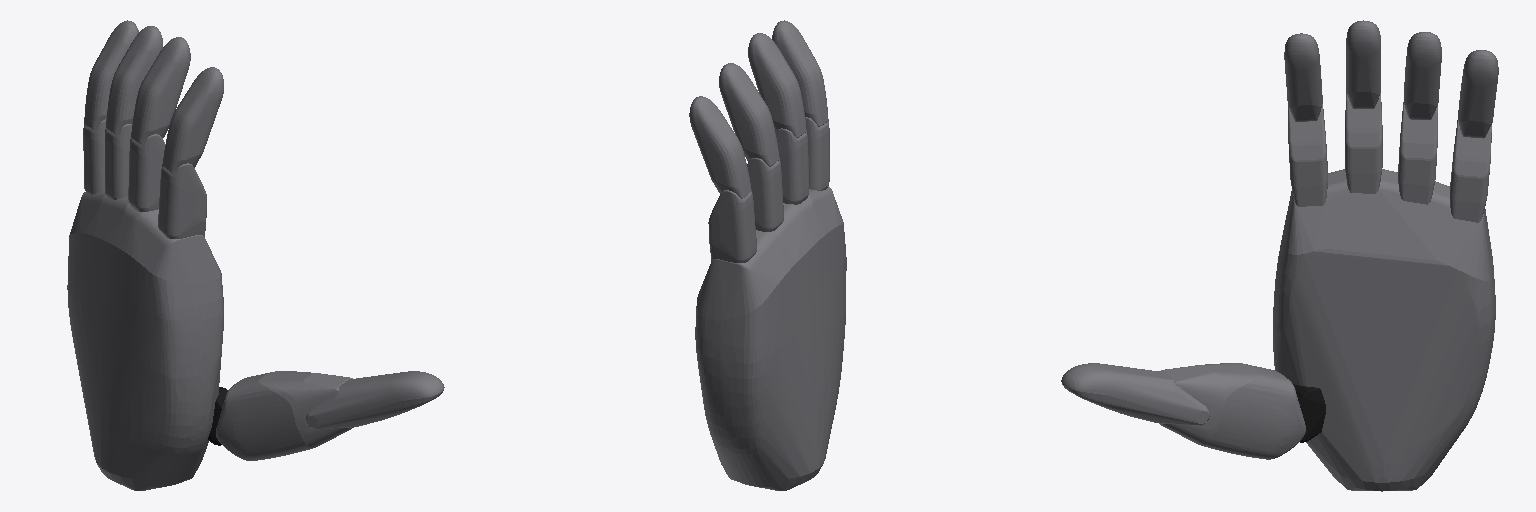
robot.urdf — linkerbot_o6_left:
<?xml version='1.0' encoding='utf-8'?>
<robot name="linkerbot_o6_left">
  <material name="lh_o6_silver">
    <color rgba="0.5 0.5 0.52 1.0" />
  </material>
  <material name="lh_o6_black_accent">
    <color rgba="0.15 0.15 0.15 1.0" />
  </material>
  <link name="lh_hand_base_link">
    <inertial>
      <origin xyz="-0.00157788568070457 -0.00034876725935859 0.0538452219801211" rpy="0 0 0" />
      <mass value="0.0672935238166485" />
      <inertia ixx="5.22525212160954E-05" ixy="3.06955729584715E-07" ixz="-3.90341166950521E-07" iyy="3.33522349207724E-05" iyz="-7.76680063574627E-07" izz="2.28469461105385E-05" />
    </inertial>
    <visual>
      <origin xyz="0 0 0" rpy="0 0 0" />
      <geometry>
        <mesh filename="../meshes/left_cvx/hand_base_link.stl" />
      </geometry>
      <material name="lh_o6_silver" />
    </visual>
    <collision>
      <origin xyz="0 0 0" rpy="0 0 0" />
      <geometry>
        <mesh filename="../meshes/left_cvx/hand_base_link.stl" />
      </geometry>
    </collision>
  </link>
  <link name="lh_thumb_metacarpals_base2">
    <inertial>
      <origin xyz="0.00162800681276937 -0.0027668017246415 -0.00184234438641236" rpy="0 0 0" />
      <mass value="0.00138588296544333" />
      <inertia ixx="5.26292160685909E-08" ixy="-3.92888681640568E-09" ixz="-2.43767371295222E-09" iyy="4.82620491570326E-08" iyz="3.71869784206147E-09" izz="2.88550286112821E-08" />
    </inertial>
    <visual>
      <origin xyz="0 0 0" rpy="0 0 0" />
      <geometry>
        <mesh filename="../meshes/left_cvx/thumb_metacarpals_base2.stl" />
      </geometry>
      <material name="lh_o6_black_accent" />
    </visual>
    <collision>
      <origin xyz="0 0 0" rpy="0 0 0" />
      <geometry>
        <mesh filename="../meshes/left_cvx/thumb_metacarpals_base2.stl" />
      </geometry>
    </collision>
  </link>
  <link name="lh_thumb_metacarpals">
    <inertial>
      <origin xyz="4.24816204999817E-05 1.74183907812875E-05 0.0228341640631254" rpy="0 0 0" />
      <mass value="0.0123381586619931" />
      <inertia ixx="1.10292537368909E-06" ixy="-5.99642232777877E-10" ixz="-1.14233573940545E-07" iyy="1.76757772551884E-06" iyz="-4.03963570823777E-10" izz="9.36347792411098E-07" />
    </inertial>
    <visual>
      <origin xyz="0 0 0" rpy="0 0 0" />
      <geometry>
        <mesh filename="../meshes/left_cvx/thumb_metacarpals.stl" />
      </geometry>
      <material name="lh_o6_silver" />
    </visual>
    <collision>
      <origin xyz="0 0 0" rpy="0 0 0" />
      <geometry>
        <mesh filename="../meshes/left_cvx/thumb_metacarpals.stl" />
      </geometry>
    </collision>
  </link>
  <link name="lh_thumb_distal">
    <inertial>
      <origin xyz="-0.00413725702921841 -5.90704520436747E-08 0.023011401589736" rpy="0 0 0" />
      <mass value="0.00763332957284057" />
      <inertia ixx="1.3057487813702E-06" ixy="-1.19781508112714E-11" ixz="-7.19551697268541E-08" iyy="1.2248908905341E-06" iyz="4.55347974652679E-12" izz="2.77271910592615E-07" />
    </inertial>
    <visual>
      <origin xyz="0 0 0" rpy="0 0 0" />
      <geometry>
        <mesh filename="../meshes/left_cvx/thumb_distal.stl" />
      </geometry>
      <material name="lh_o6_silver" />
    </visual>
    <collision>
      <origin xyz="0 0 0" rpy="0 0 0" />
      <geometry>
        <mesh filename="../meshes/left_cvx/thumb_distal.stl" />
      </geometry>
    </collision>
  </link>
  <link name="lh_index_proximal">
    <inertial>
      <origin xyz="-0.00208656556336452 2.53838713251686E-06 0.0172734941980264" rpy="0 0 0" />
      <mass value="0.00253174651934627" />
      <inertia ixx="2.65988714157799E-07" ixy="-1.67174578825824E-11" ixz="-4.31047725546034E-08" iyy="2.72914069166233E-07" iyz="1.8756709532167E-10" izz="8.56017305636748E-08" />
    </inertial>
    <visual>
      <origin xyz="0 0 0" rpy="0 0 0" />
      <geometry>
        <mesh filename="../meshes/left_cvx/index_proximal.stl" />
      </geometry>
      <material name="lh_o6_silver" />
    </visual>
    <collision>
      <origin xyz="0 0 0" rpy="0 0 0" />
      <geometry>
        <mesh filename="../meshes/left_cvx/index_proximal.stl" />
      </geometry>
    </collision>
  </link>
  <link name="lh_index_distal">
    <inertial>
      <origin xyz="0.00658986616416549 5.13855642059191E-06 0.0194393600039178" rpy="0 0 0" />
      <mass value="0.00376951085886838" />
      <inertia ixx="3.22347106085043E-07" ixy="1.3801788663582E-11" ixz="1.14352857317951E-07" iyy="3.65328133721509E-07" iyz="-2.11505011705634E-10" izz="1.24287996386442E-07" />
    </inertial>
    <visual>
      <origin xyz="0 0 0" rpy="0 0 0" />
      <geometry>
        <mesh filename="../meshes/left_cvx/index_distal.stl" />
      </geometry>
      <material name="lh_o6_silver" />
    </visual>
    <collision>
      <origin xyz="0 0 0" rpy="0 0 0" />
      <geometry>
        <mesh filename="../meshes/left_cvx/index_distal.stl" />
      </geometry>
    </collision>
  </link>
  <link name="lh_middle_proximal">
    <inertial>
      <origin xyz="-0.00208660654138235 2.56918180119303E-06 0.0172735011723351" rpy="0 0 0" />
      <mass value="0.00253177375206983" />
      <inertia ixx="2.65989021304483E-07" ixy="-1.69816046635662E-11" ixz="-4.31046683215273E-08" iyy="2.72914402745606E-07" iyz="1.87484652324395E-10" izz="8.5602213431865E-08" />
    </inertial>
    <visual>
      <origin xyz="0 0 0" rpy="0 0 0" />
      <geometry>
        <mesh filename="../meshes/left_cvx/middle_proximal.stl" />
      </geometry>
      <material name="lh_o6_silver" />
    </visual>
    <collision>
      <origin xyz="0 0 0" rpy="0 0 0" />
      <geometry>
        <mesh filename="../meshes/left_cvx/middle_proximal.stl" />
      </geometry>
    </collision>
  </link>
  <link name="lh_middle_distal">
    <inertial>
      <origin xyz="0.00658986516319194 5.10862924271716E-06 0.0194393315699782" rpy="0 0 0" />
      <mass value="0.00376952789210256" />
      <inertia ixx="3.22348591068053E-07" ixy="1.37122394856588E-11" ixz="1.1435291391668E-07" iyy="3.65329535087755E-07" iyz="-2.10453810291991E-10" izz="1.24288425862546E-07" />
    </inertial>
    <visual>
      <origin xyz="0 0 0" rpy="0 0 0" />
      <geometry>
        <mesh filename="../meshes/left_cvx/middle_distal.stl" />
      </geometry>
      <material name="lh_o6_silver" />
    </visual>
    <collision>
      <origin xyz="0 0 0" rpy="0 0 0" />
      <geometry>
        <mesh filename="../meshes/left_cvx/middle_distal.stl" />
      </geometry>
    </collision>
  </link>
  <link name="lh_ring_proximal">
    <inertial>
      <origin xyz="-0.00208667931345812 2.63000419462034E-06 0.0172734926448377" rpy="0 0 0" />
      <mass value="0.00253182223645066" />
      <inertia ixx="2.65989756076584E-07" ixy="-1.74912952703656E-11" ixz="-4.31043325594253E-08" iyy="2.7291510093393E-07" iyz="1.87158326740895E-10" izz="8.56031522765909E-08" />
    </inertial>
    <visual>
      <origin xyz="0 0 0" rpy="0 0 0" />
      <geometry>
        <mesh filename="../meshes/left_cvx/ring_proximal.stl" />
      </geometry>
      <material name="lh_o6_silver" />
    </visual>
    <collision>
      <origin xyz="0 0 0" rpy="0 0 0" />
      <geometry>
        <mesh filename="../meshes/left_cvx/ring_proximal.stl" />
      </geometry>
    </collision>
  </link>
  <link name="lh_ring_distal">
    <inertial>
      <origin xyz="0.00658986648895491 5.05883528165163E-06 0.019439397215532" rpy="0 0 0" />
      <mass value="0.00376949588316609" />
      <inertia ixx="3.2234524157181E-07" ixy="1.35766976056011E-11" ixz="1.14353011012842E-07" iyy="3.65326570102147E-07" iyz="-2.08672149138738E-10" izz="1.24287770218135E-07" />
    </inertial>
    <visual>
      <origin xyz="0 0 0" rpy="0 0 0" />
      <geometry>
        <mesh filename="../meshes/left_cvx/ring_distal.stl" />
      </geometry>
      <material name="lh_o6_silver" />
    </visual>
    <collision>
      <origin xyz="0 0 0" rpy="0 0 0" />
      <geometry>
        <mesh filename="../meshes/left_cvx/ring_distal.stl" />
      </geometry>
    </collision>
  </link>
  <link name="lh_pinky_proximal">
    <inertial>
      <origin xyz="-0.00208673599799501 2.68062251165824E-06 0.0172734848131236" rpy="0 0 0" />
      <mass value="0.00253185993162408" />
      <inertia ixx="2.6599033687183E-07" ixy="-1.79030790016555E-11" ixz="-4.31040829565781E-08" iyy="2.72915617381577E-07" iyz="1.86906787420486E-10" izz="8.56039175034871E-08" />
    </inertial>
    <visual>
      <origin xyz="0 0 0" rpy="0 0 0" />
      <geometry>
        <mesh filename="../meshes/left_cvx/pinky_proximal.stl" />
      </geometry>
      <material name="lh_o6_silver" />
    </visual>
    <collision>
      <origin xyz="0 0 0" rpy="0 0 0" />
      <geometry>
        <mesh filename="../meshes/left_cvx/pinky_proximal.stl" />
      </geometry>
    </collision>
  </link>
  <link name="lh_pinky_distal">
    <inertial>
      <origin xyz="0.00658987588903027 5.03087534178825E-06 0.0194394491065091" rpy="0 0 0" />
      <mass value="0.00376948071276134" />
      <inertia ixx="3.22343583730488E-07" ixy="1.35768173270357E-11" ixz="1.14353289593012E-07" iyy="3.65325180884183E-07" iyz="-2.0744198062439E-10" izz="1.24287567374229E-07" />
    </inertial>
    <visual>
      <origin xyz="0 0 0" rpy="0 0 0" />
      <geometry>
        <mesh filename="../meshes/left_cvx/pinky_distal.stl" />
      </geometry>
      <material name="lh_o6_silver" />
    </visual>
    <collision>
      <origin xyz="0 0 0" rpy="0 0 0" />
      <geometry>
        <mesh filename="../meshes/left_cvx/pinky_distal.stl" />
      </geometry>
    </collision>
  </link>
  <joint name="lh_thumb_cmc_yaw" type="revolute">
    <origin xyz="0.011508 -0.022975 0.032794" rpy="0 0 0" />
    <parent link="lh_hand_base_link" />
    <child link="lh_thumb_metacarpals_base2" />
    <axis xyz="0 0 1" />
    <limit lower="0" upper="1.3" effort="100" velocity="1" />
  </joint>
  <joint name="lh_thumb_cmc_pitch" type="revolute">
    <origin xyz="0.0061649 -0.010678 -0.004891" rpy="0 -1.1529 2.0944" />
    <parent link="lh_thumb_metacarpals_base2" />
    <child link="lh_thumb_metacarpals" />
    <axis xyz="0 1 0" />
    <limit lower="0" upper="0.58" effort="100" velocity="1" />
  </joint>
  <joint name="lh_thumb_ip" type="revolute">
    <origin xyz="0.0037776 0 0.045368" rpy="0 0 0" />
    <parent link="lh_thumb_metacarpals" />
    <child link="lh_thumb_distal" />
    <axis xyz="0 1 0" />
    <limit lower="0" upper="1.08" effort="100" velocity="1" />
    <mimic joint="lh_thumb_cmc_pitch" multiplier="2.29" offset="0" />
  </joint>
  <joint name="lh_index_mcp_pitch" type="revolute">
    <origin xyz="0.0024758 -0.02419 0.098779" rpy="0.05236 0 0" />
    <parent link="lh_hand_base_link" />
    <child link="lh_index_proximal" />
    <axis xyz="0 1 0" />
    <limit lower="0" upper="1.60" effort="100" velocity="1" />
  </joint>
  <joint name="lh_index_dip" type="revolute">
    <origin xyz="-0.0052516 0 0.036625" rpy="0 0 0" />
    <parent link="lh_index_proximal" />
    <child link="lh_index_distal" />
    <axis xyz="0 1 0" />
    <limit lower="0" upper="1.43" effort="100" velocity="1" />
    <mimic joint="lh_index_mcp_pitch" multiplier="0.89" offset="0" />
  </joint>
  <joint name="lh_middle_mcp_pitch" type="revolute">
    <origin xyz="0.00052576 -0.00634 0.1027" rpy="0 0 0" />
    <parent link="lh_hand_base_link" />
    <child link="lh_middle_proximal" />
    <axis xyz="0 1 0" />
    <limit lower="0" upper="1.60" effort="100" velocity="1" />
  </joint>
  <joint name="lh_middle_dip" type="revolute">
    <origin xyz="-0.0052516 0 0.036625" rpy="0 0 0" />
    <parent link="lh_middle_proximal" />
    <child link="lh_middle_distal" />
    <axis xyz="0 1 0" />
    <limit lower="0" upper="1.43" effort="100" velocity="1" />
    <mimic joint="lh_middle_mcp_pitch" multiplier="0.89" offset="0" />
  </joint>
  <joint name="lh_ring_mcp_pitch" type="revolute">
    <origin xyz="0.0010258 0.011135 0.098767" rpy="-0.05236 0 0" />
    <parent link="lh_hand_base_link" />
    <child link="lh_ring_proximal" />
    <axis xyz="0 1 0" />
    <limit lower="0" upper="1.60" effort="100" velocity="1" />
  </joint>
  <joint name="lh_ring_dip" type="revolute">
    <origin xyz="-0.0052516 0 0.036625" rpy="0 0 0" />
    <parent link="lh_ring_proximal" />
    <child link="lh_ring_distal" />
    <axis xyz="0 1 0" />
    <limit lower="0" upper="1.43" effort="100" velocity="1" />
    <mimic joint="lh_ring_mcp_pitch" multiplier="0.89" offset="0" />
  </joint>
  <joint name="lh_pinky_mcp_pitch" type="revolute">
    <origin xyz="0.0024758 0.028372 0.092741" rpy="-0.087266 0 0" />
    <parent link="lh_hand_base_link" />
    <child link="lh_pinky_proximal" />
    <axis xyz="0 1 0" />
    <limit lower="0" upper="1.60" effort="100" velocity="1" />
  </joint>
  <joint name="lh_pinky_dip" type="revolute">
    <origin xyz="-0.0052516 0 0.036625" rpy="0 0 0" />
    <parent link="lh_pinky_proximal" />
    <child link="lh_pinky_distal" />
    <axis xyz="0 1 0" />
    <limit lower="0" upper="1.43" effort="100" velocity="1" />
    <mimic joint="lh_pinky_mcp_pitch" multiplier="0.89" offset="0" />
  </joint>
</robot>

--- Facts derived from the render (not from the file) ---
3 views of the same robot in one strip: view 1: azimuth 30°, elevation 25°; view 2: azimuth 150°, elevation 25°; view 3: azimuth 270°, elevation 25° (orthographic).
Robot: linkerbot_o6_left — 12 links, 11 joints (11 revolute); root link lh_hand_base_link; default pose: every joint at zero.
Visible links, largest first — view 1: lh_hand_base_link, lh_thumb_metacarpals, lh_thumb_distal, lh_index_distal, lh_middle_distal, lh_index_proximal, lh_ring_distal, lh_pinky_distal, lh_middle_proximal, lh_ring_proximal, lh_pinky_proximal; view 2: lh_hand_base_link, lh_pinky_distal, lh_ring_distal, lh_middle_distal, lh_pinky_proximal, lh_index_distal, lh_ring_proximal, lh_middle_proximal, lh_index_proximal; view 3: lh_hand_base_link, lh_thumb_metacarpals, lh_thumb_distal, lh_index_proximal, lh_middle_proximal, lh_pinky_proximal, lh_ring_proximal, lh_pinky_distal, lh_index_distal, lh_ring_distal, lh_middle_distal, lh_thumb_metacarpals_base2.
Link boxes in pixels (x1,y1,x2,y2): lh_hand_base_link: (67,191,223,490); lh_thumb_metacarpals: (216,371,353,460); lh_thumb_distal: (306,371,444,428); lh_index_distal: (163,67,223,172); lh_middle_distal: (131,37,190,143); lh_index_proximal: (158,163,206,238); lh_ring_distal: (106,26,162,133); lh_pinky_distal: (84,20,138,128); lh_middle_proximal: (128,134,165,211); lh_ring_proximal: (105,124,131,199); lh_pinky_proximal: (83,119,105,194); lh_hand_base_link: (695,186,846,490); lh_pinky_distal: (689,96,751,198); lh_ring_distal: (719,63,779,166); lh_middle_distal: (748,33,806,137); lh_pinky_proximal: (708,189,756,262); lh_index_distal: (772,20,828,126); lh_ring_proximal: (747,157,783,231); lh_middle_proximal: (776,128,808,204); lh_index_proximal: (805,117,829,190); lh_hand_base_link: (1273,169,1495,491); lh_thumb_metacarpals: (1159,363,1305,459); lh_thumb_distal: (1061,363,1209,425); lh_index_proximal: (1288,104,1327,206); lh_middle_proximal: (1345,92,1382,193); lh_pinky_proximal: (1450,120,1491,222); lh_ring_proximal: (1398,102,1437,204); lh_pinky_distal: (1458,50,1498,138); lh_index_distal: (1284,33,1322,121); lh_ring_distal: (1404,32,1441,119); lh_middle_distal: (1346,20,1380,108); lh_thumb_metacarpals_base2: (1293,384,1325,442).
Size in the robot's own frame: 0.0852 by 0.1505 by 0.1769 metres.
Meshes: 12 distinct files referenced, 12 mesh visuals loaded (12 binary STL).
